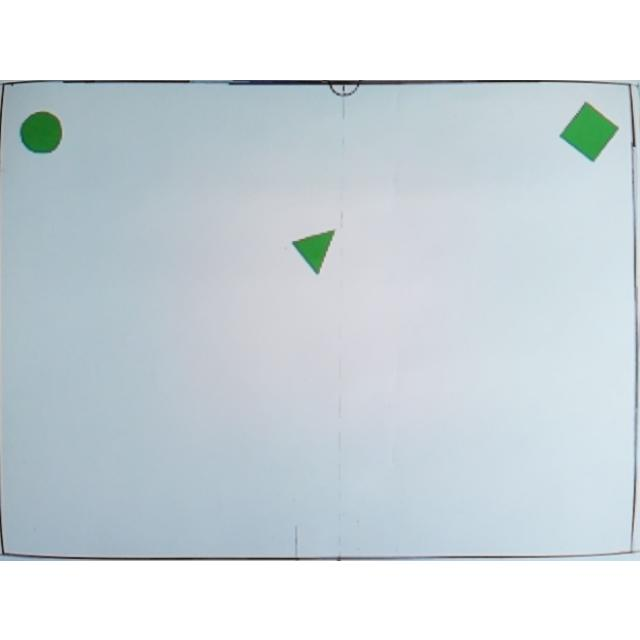greenCircle: (19, 107, 65, 155)
greenSquare: (556, 99, 620, 161)
greenTriangle: (290, 226, 338, 274)
